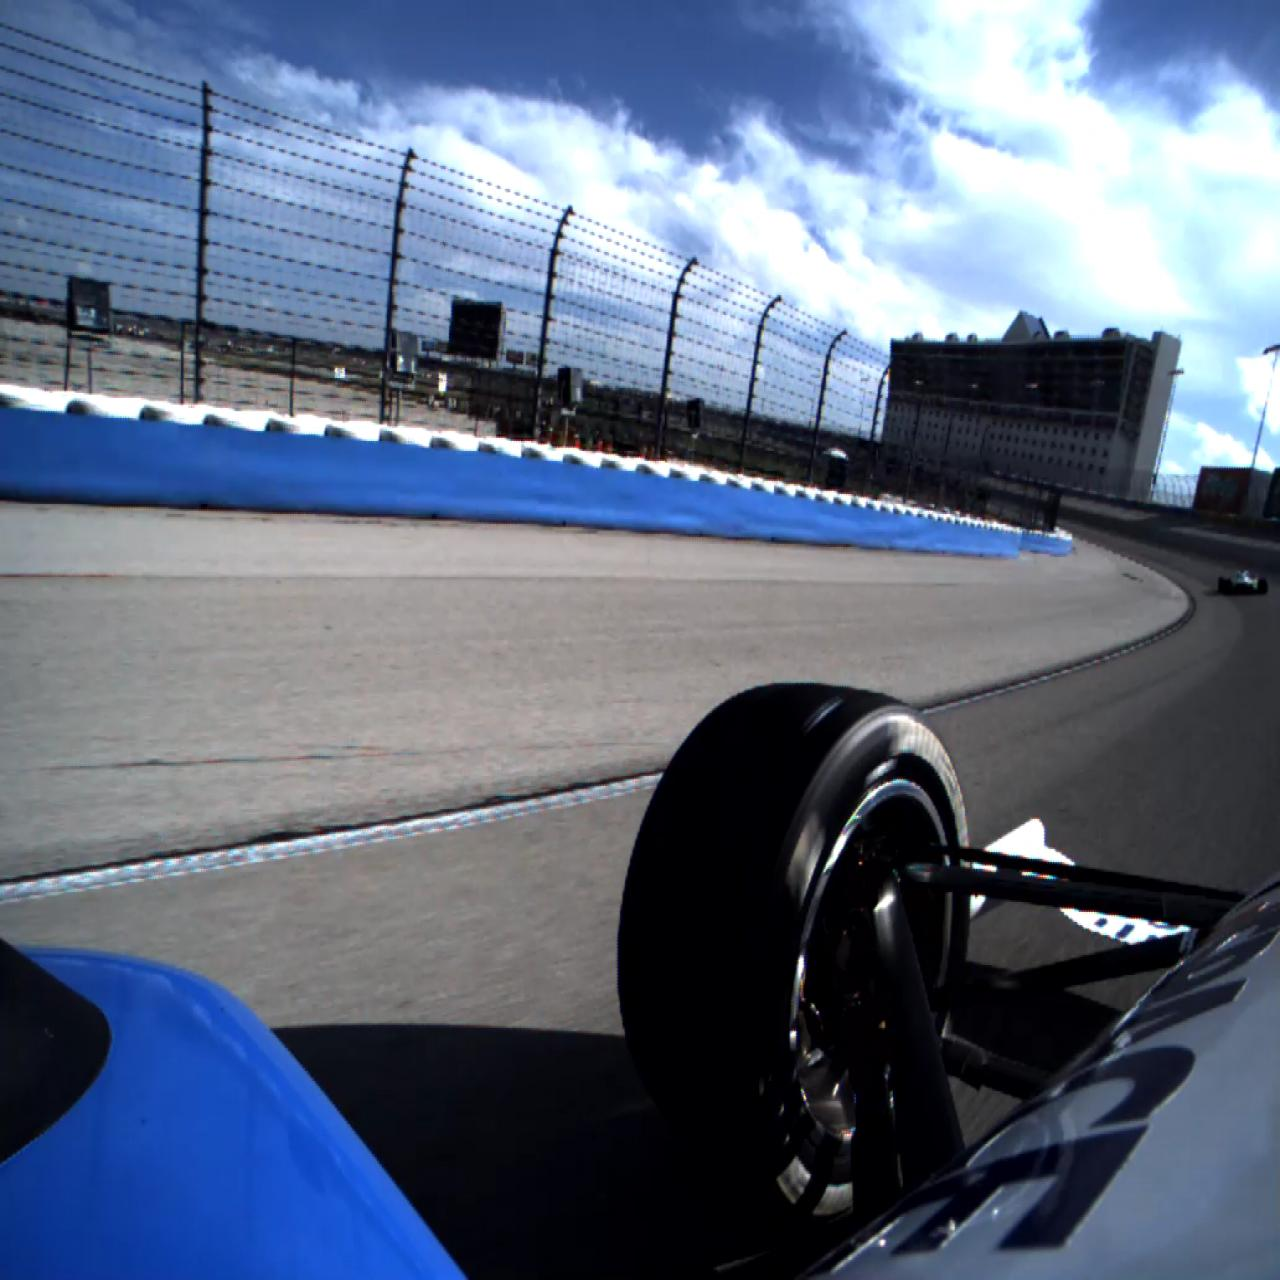AV: (1218, 567, 1268, 595)
Wheel: (619, 682, 974, 1240), (1259, 578, 1268, 594), (1224, 579, 1232, 595), (1218, 577, 1224, 591)
